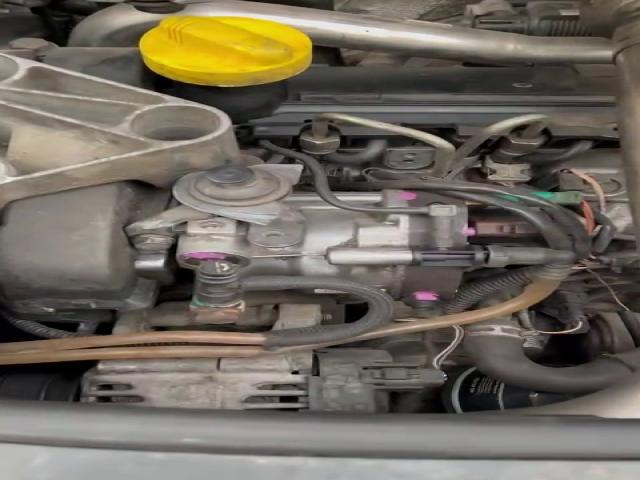alternator: (82, 352, 314, 409)
high_pressure_pump: (126, 164, 576, 324)
